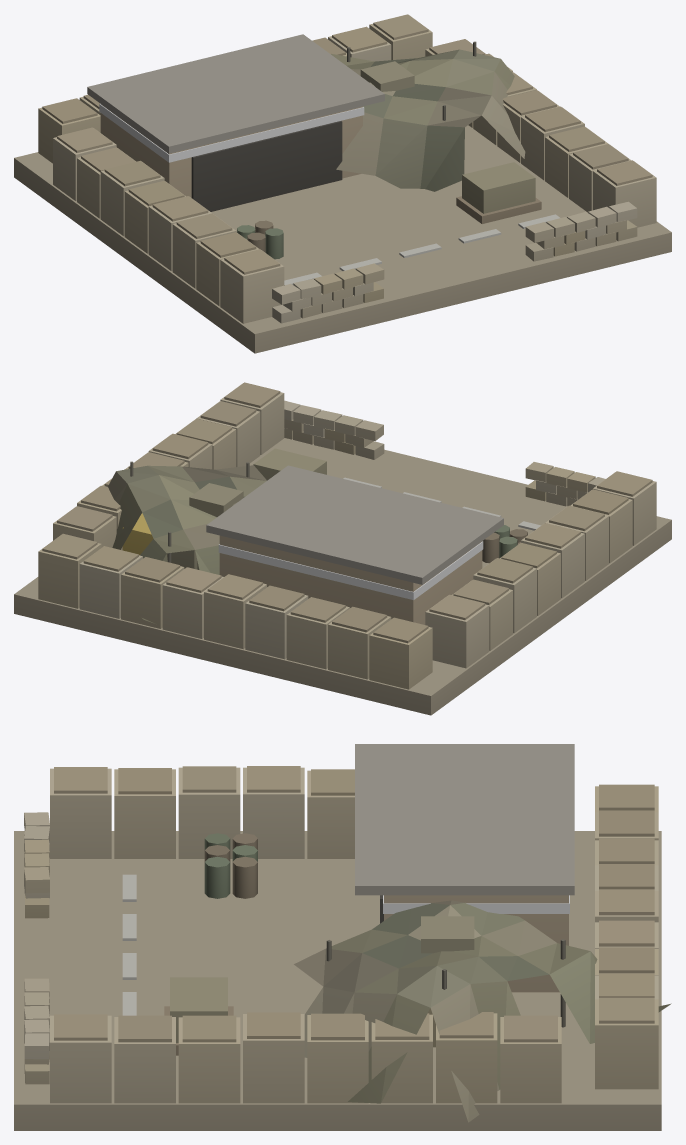
File: m_depot_44325eca.glb
The picture shows the model from 3 angles, top to bottom: view 1: azimuth 30°, elevation 25°; view 2: azimuth 150°, elevation 25°; view 3: azimuth 270°, elevation 25°; orthographic projection. The views are drawn at different scales.
Parts seen in each view (by area): view 1: mesh; view 2: mesh; view 3: mesh.
Part boxes in pixels (bbox=[...]): mesh: bbox=[14, 14, 671, 353]; mesh: bbox=[14, 382, 671, 715]; mesh: bbox=[14, 744, 671, 1130].
Bounding box in the file's own units: 58 × 13.35 × 56.91.
